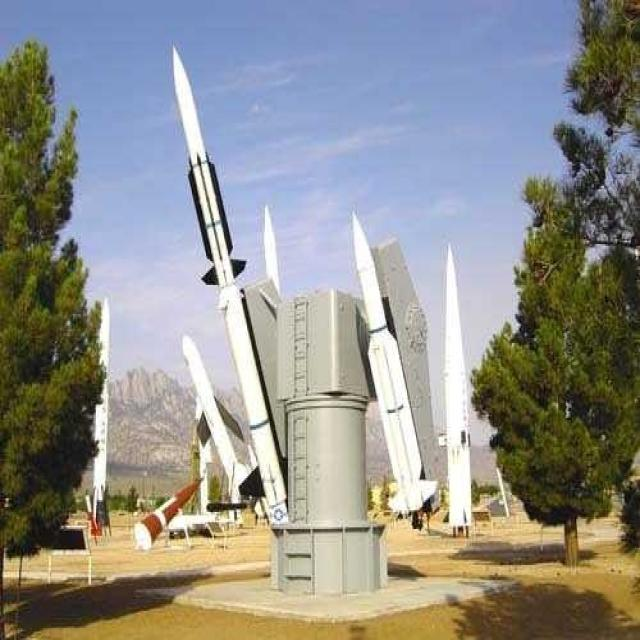missile: (169, 42, 299, 508), (350, 210, 436, 513), (438, 244, 482, 534), (184, 335, 254, 511)
